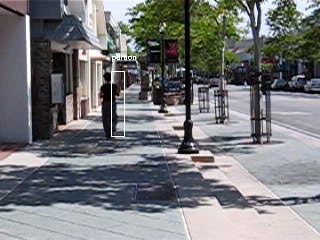person: (100, 74, 121, 140), (99, 74, 120, 140), (101, 74, 122, 140), (100, 73, 121, 139), (100, 75, 121, 141)
target_negative: (28, 31, 307, 236), (72, 137, 211, 237), (80, 31, 320, 87), (214, 117, 278, 152), (239, 70, 299, 89), (287, 228, 312, 229)
